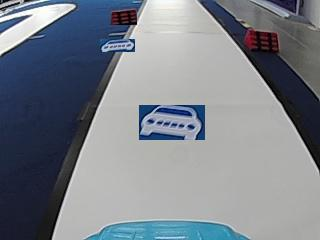bomb: (242, 28, 279, 50)
